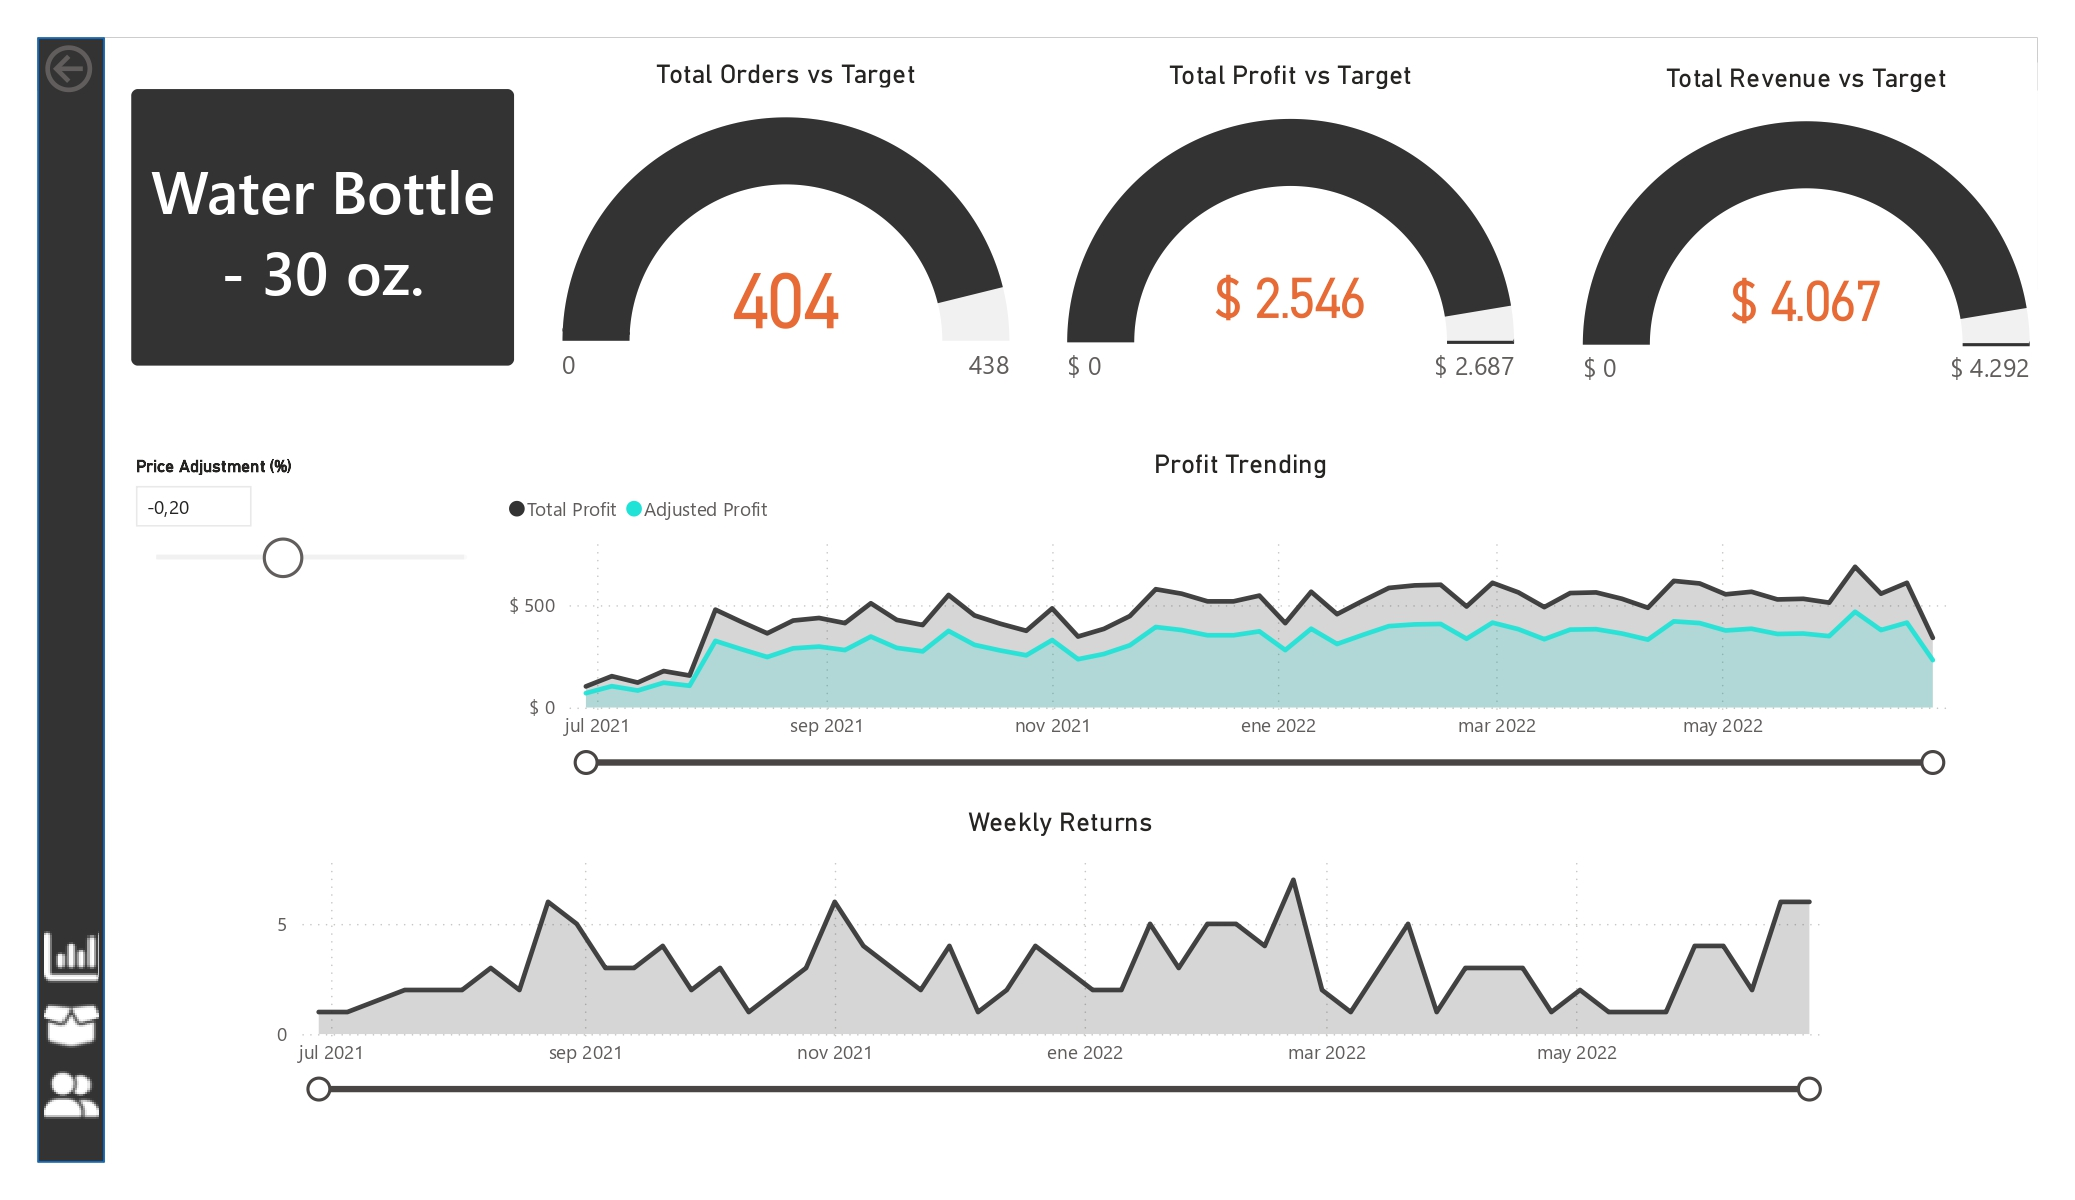

The dashboard page shown, as its layout file describes it:
{"tool":"powerbi","page":{"name":"Product Detail","canvas":[1280,720],"ordinal":1},"visuals":[{"type":"shape","title":"Left Nav bar","box":[0,0,42.5,720],"z":0},{"type":"gauge","title":"Total Orders vs Target","fields":{"TargetValue":["Measure Table (DAX).Returns Target"],"Y":["Measure Table (DAX).Total Orders"],"MaxValue":["Measure Table (DAX).Order Target"]},"box":[331.4,12.8,295.8,231.8],"z":1000},{"type":"actionButton","box":[0,566.2,42.8,44],"z":1000,"group":"g1"},{"type":"gauge","title":"Total Profit vs Target","fields":{"Y":["Measure Table (DAX).Total Profit"],"TargetValue":["Measure Table (DAX).Profit Target"]},"box":[654.2,14.2,295.8,231.8],"z":2000},{"type":"actionButton","box":[0,610.2,42.8,44],"z":2000,"group":"g1"},{"type":"gauge","title":"Total Revenue vs Target","fields":{"Y":["Measure Table (DAX).Total Revenue"],"TargetValue":["Measure Table (DAX).Revenue Target"]},"box":[984.2,15.6,295.8,231.8],"z":3000},{"type":"actionButton","box":[0,654.2,42.8,44],"z":3000,"group":"g1"},{"type":"areaChart","title":"Weekly Returns","fields":{"Category":["Calendar Lookup.Start of week.Variación.Jerarquía de fechas.Año","Calendar Lookup.Start of week.Variación.Jerarquía de fechas.Trimestre","Calendar Lookup.Start of week.Variación.Jerarquía de fechas.Mes","Calendar Lookup.Start of week.Variación.Jerarquía de fechas.Día"],"Y":["Measure Table (DAX).Total Returns"]},"box":[143.6,492.1,1021.2,192],"z":4000},{"type":"actionButton","box":[0,0,100,40],"z":5000},{"type":"cardVisual","fields":{"Data":["Min(Product Lookup.ProductName)"]},"box":[42.8,15.9,278.8,211.6],"z":6000},{"type":"group","id":"g1","title":"Botones","box":[0,566.2,42.8,132.1],"z":7000},{"type":"slicer","fields":{"Values":["Price Adjustment (%).Price Adjustment (%)"]},"box":[50.1,262.9,245.8,116.2],"z":8000},{"type":"lineChart","title":"Profit Trending","fields":{"Y":["Measure Table (DAX).Total Profit","Measure Table (DAX).Adjusted Profit"],"Category":["Calendar Lookup.Start of Week.Variación.Jerarquía de fechas.Año","Calendar Lookup.Start of Week.Variación.Jerarquía de fechas.Trimestre","Calendar Lookup.Start of Week.Variación.Jerarquía de fechas.Mes","Calendar Lookup.Start of Week.Variación.Jerarquía de fechas.Día"]},"box":[295.8,263.1,948.6,211.9],"z":9000}]}

Visuals, with their boxes on the page's 1280x720 design canvas (x1, y1, x2, y2). These are canvas units, not pixel positions in the 2075x1200 screenshot, which may show the page scaled, cropped or inside an application window:
"Left Nav bar" shape: 0:0:42:720
"Total Orders vs Target" gauge: 331:13:627:245
actionButton: 0:566:43:610
"Total Profit vs Target" gauge: 654:14:950:246
actionButton: 0:610:43:654
"Total Revenue vs Target" gauge: 984:16:1280:247
actionButton: 0:654:43:698
"Weekly Returns" areaChart: 144:492:1165:684
actionButton: 0:0:100:40
cardVisual - Min(Product Lookup.ProductName): 43:16:322:228
"Botones" group: 0:566:43:698
slicer - Price Adjustment (%).Price Adjustment (%): 50:263:296:379
"Profit Trending" lineChart: 296:263:1244:475
